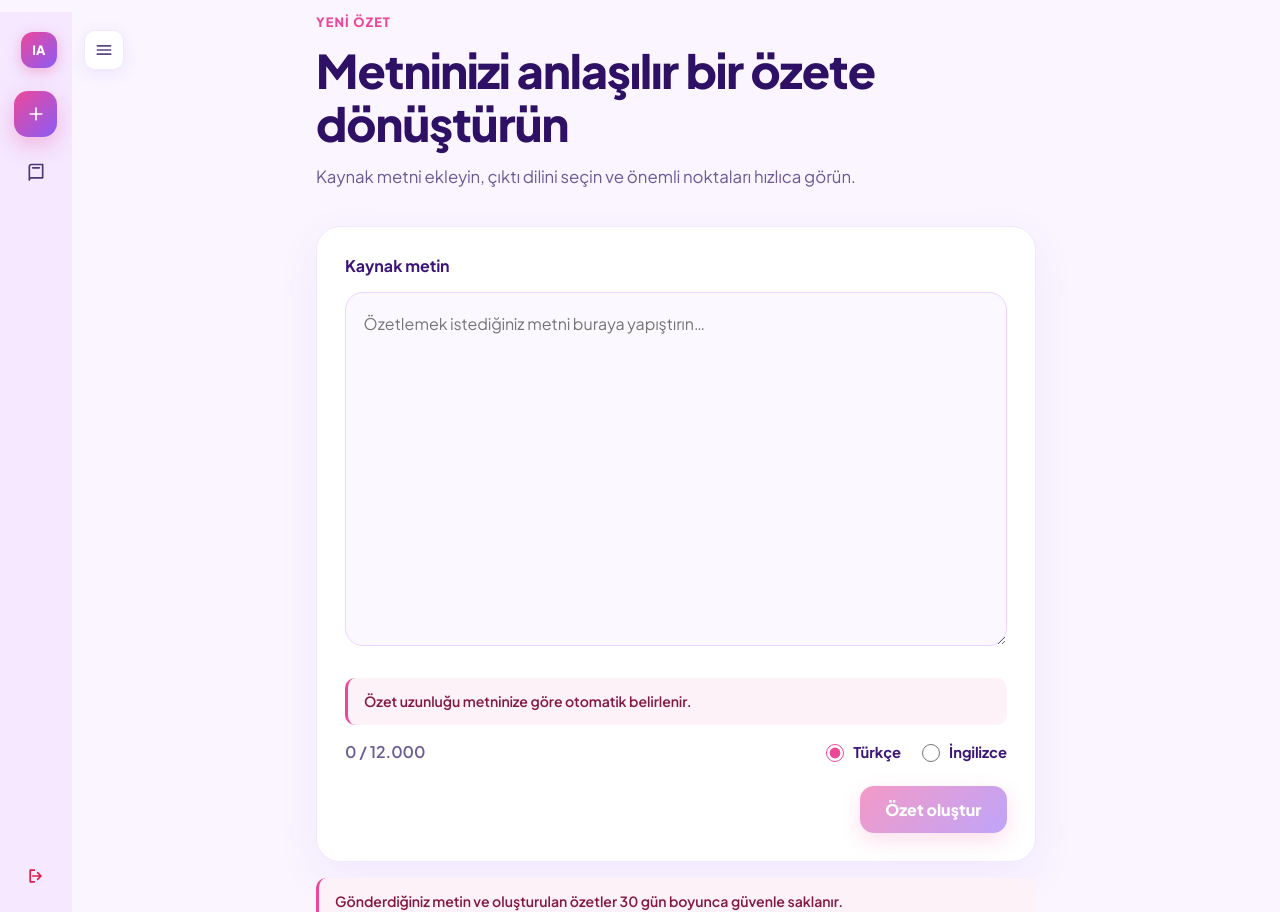
Test: product workspace › supports feedback on a new result, prevents duplicate pending requests and retains confirmed state after failure
Type "Dijital dönüşüm kaynak metni" into the text box labelled "Kaynak metin".
click(676, 469); type("Dijital dönüşüm kaynak metni")  # box [345, 292, 1007, 646]
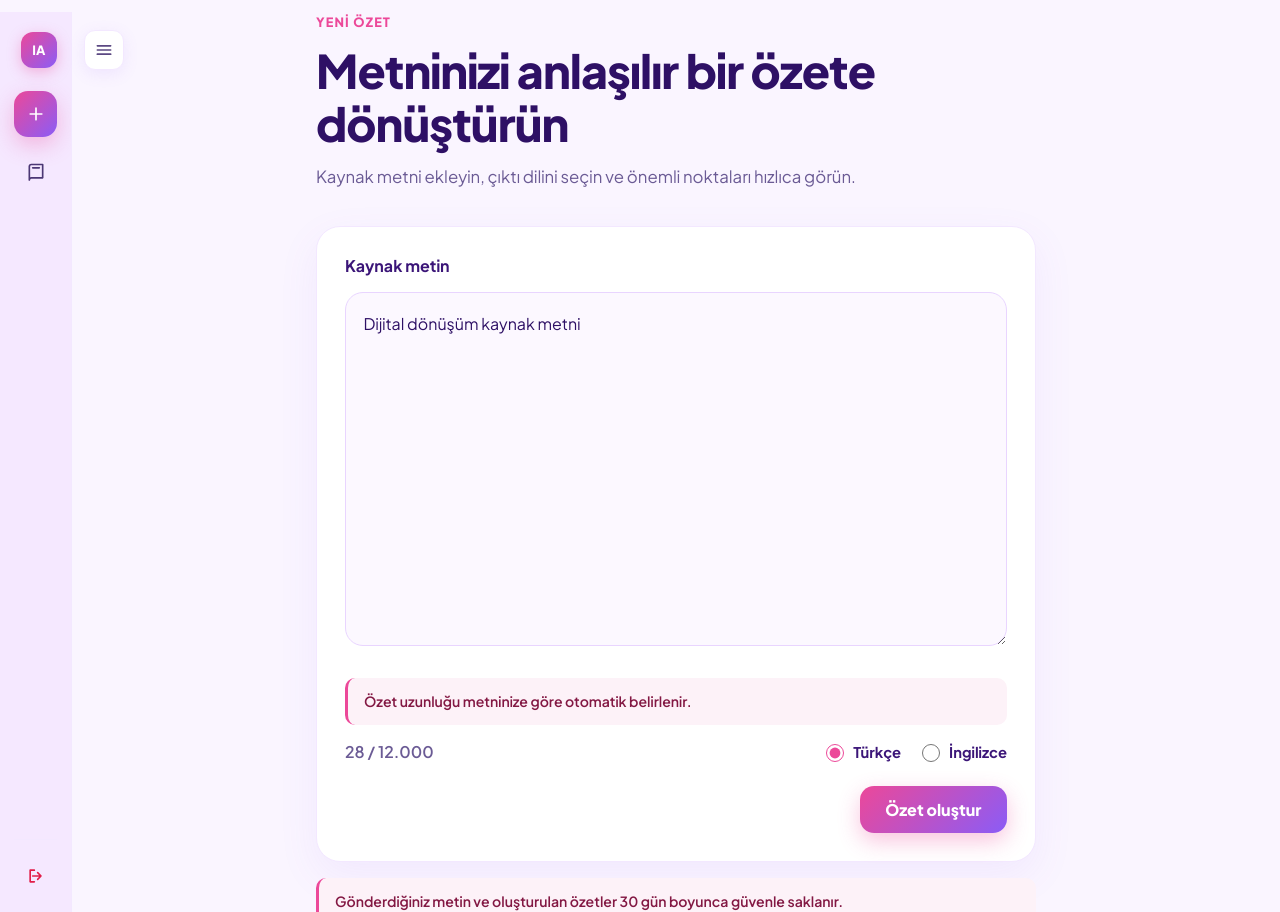
Click the button "Özet oluştur".
click(933, 809)  # box [860, 786, 1007, 833]
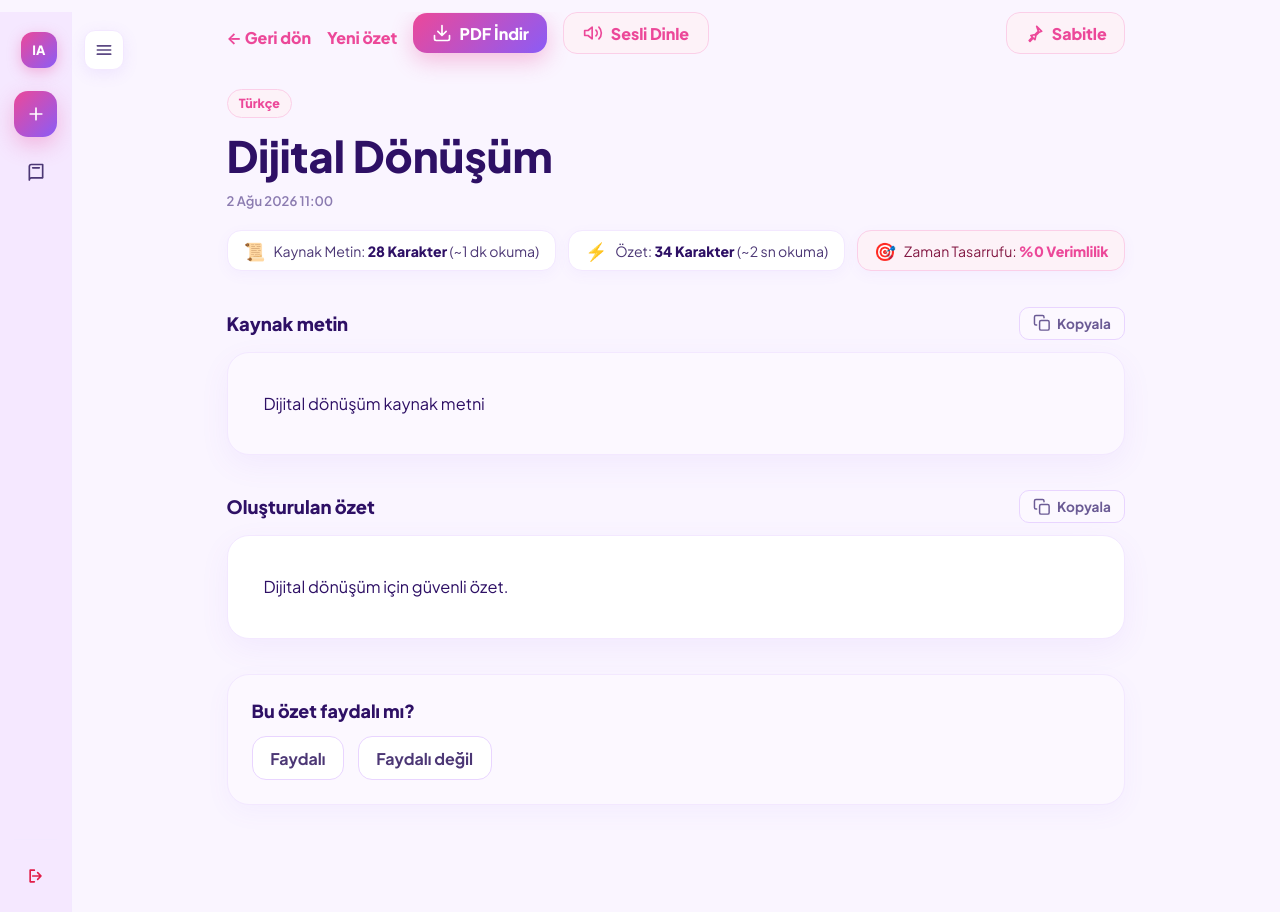
Click the button "Faydalı".
click(298, 758)  # box [252, 736, 344, 780]
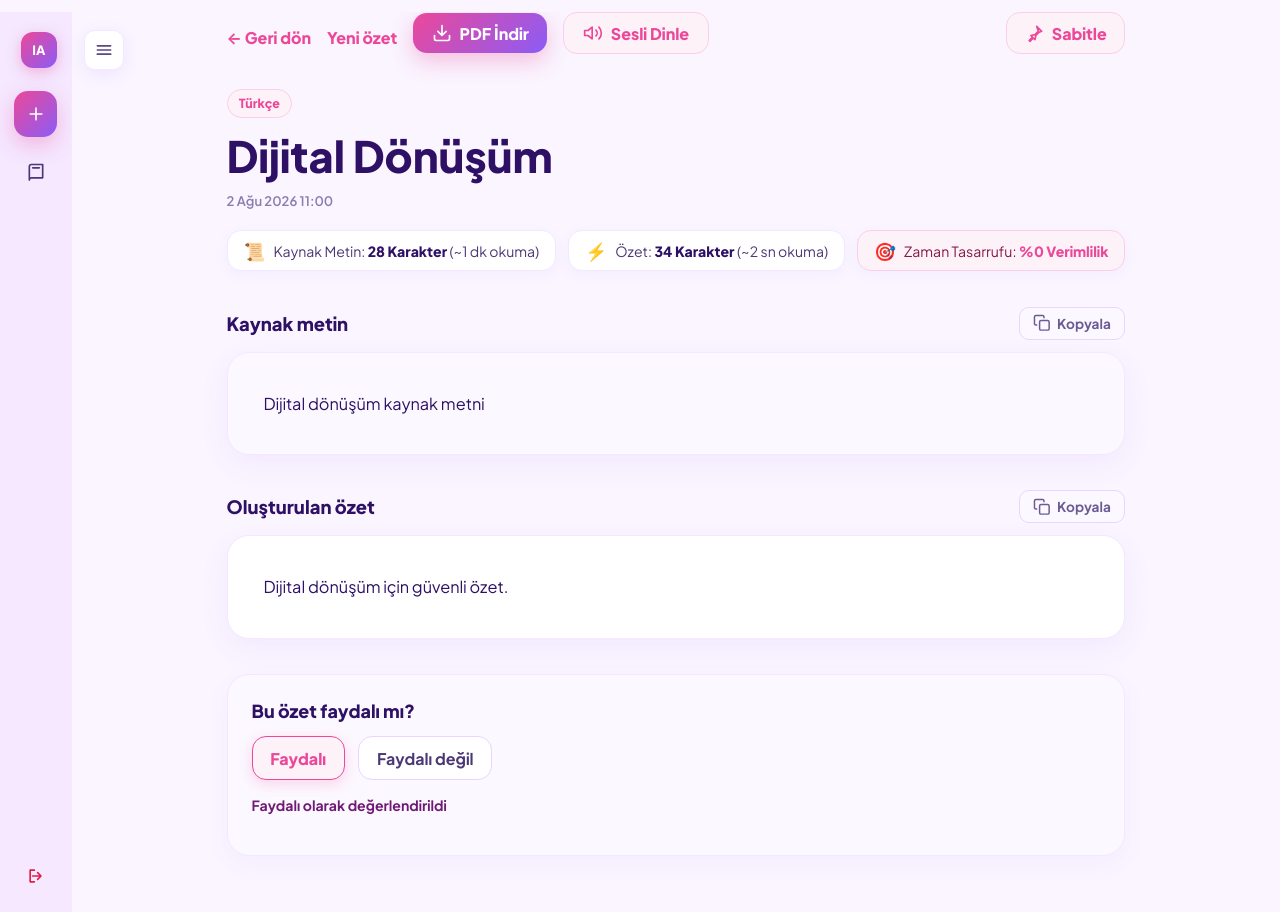
Expected: the button "Faydalı" is pressed, [252, 736, 345, 780]
Click the button "Faydalı değil".
click(425, 758)  # box [358, 736, 492, 780]
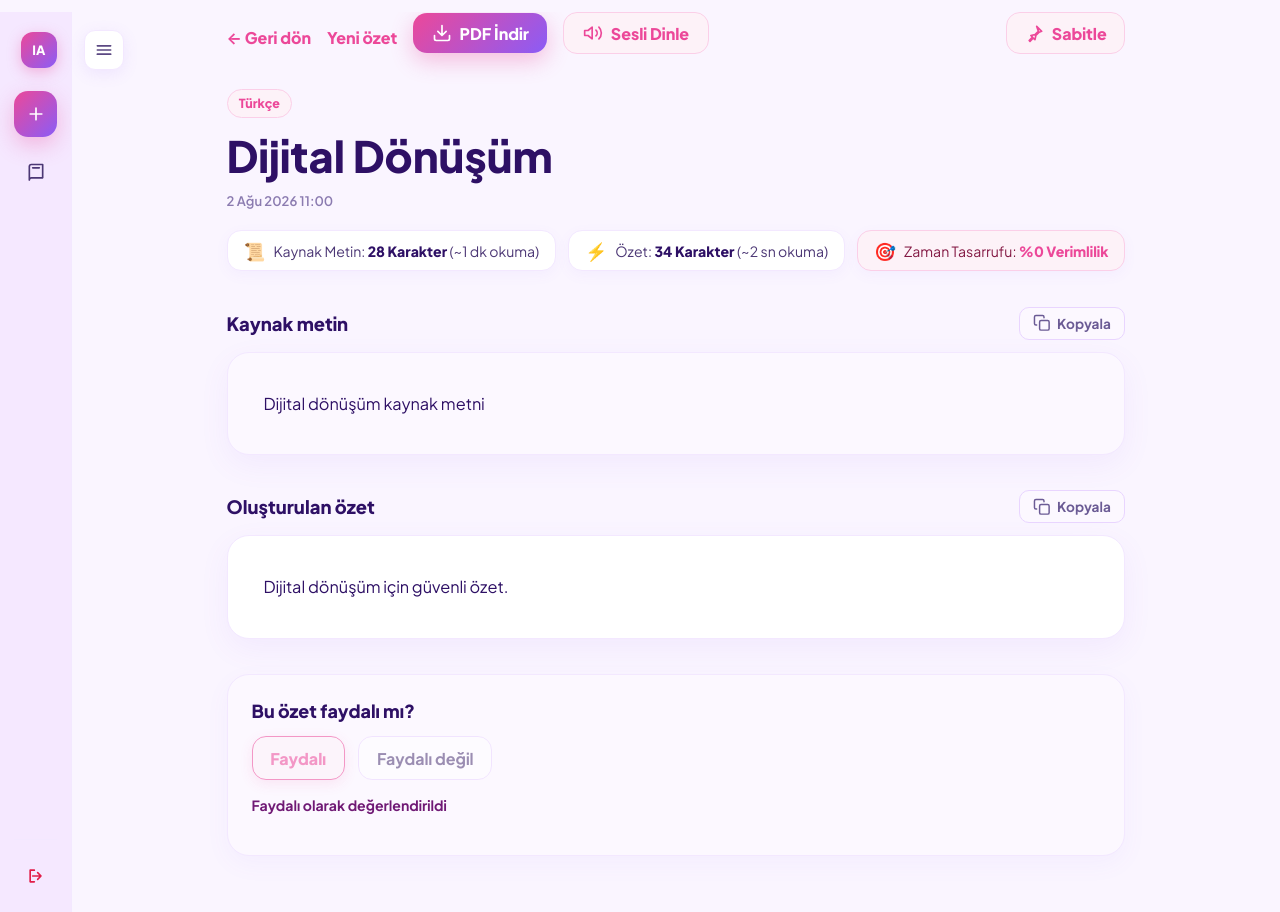
Expected: the button "Faydalı" is disabled, [252, 736, 345, 780]
Expected: the button "Faydalı değil" is disabled
Click the button "Faydalı değil".
click(425, 758)  # box [358, 736, 492, 780]
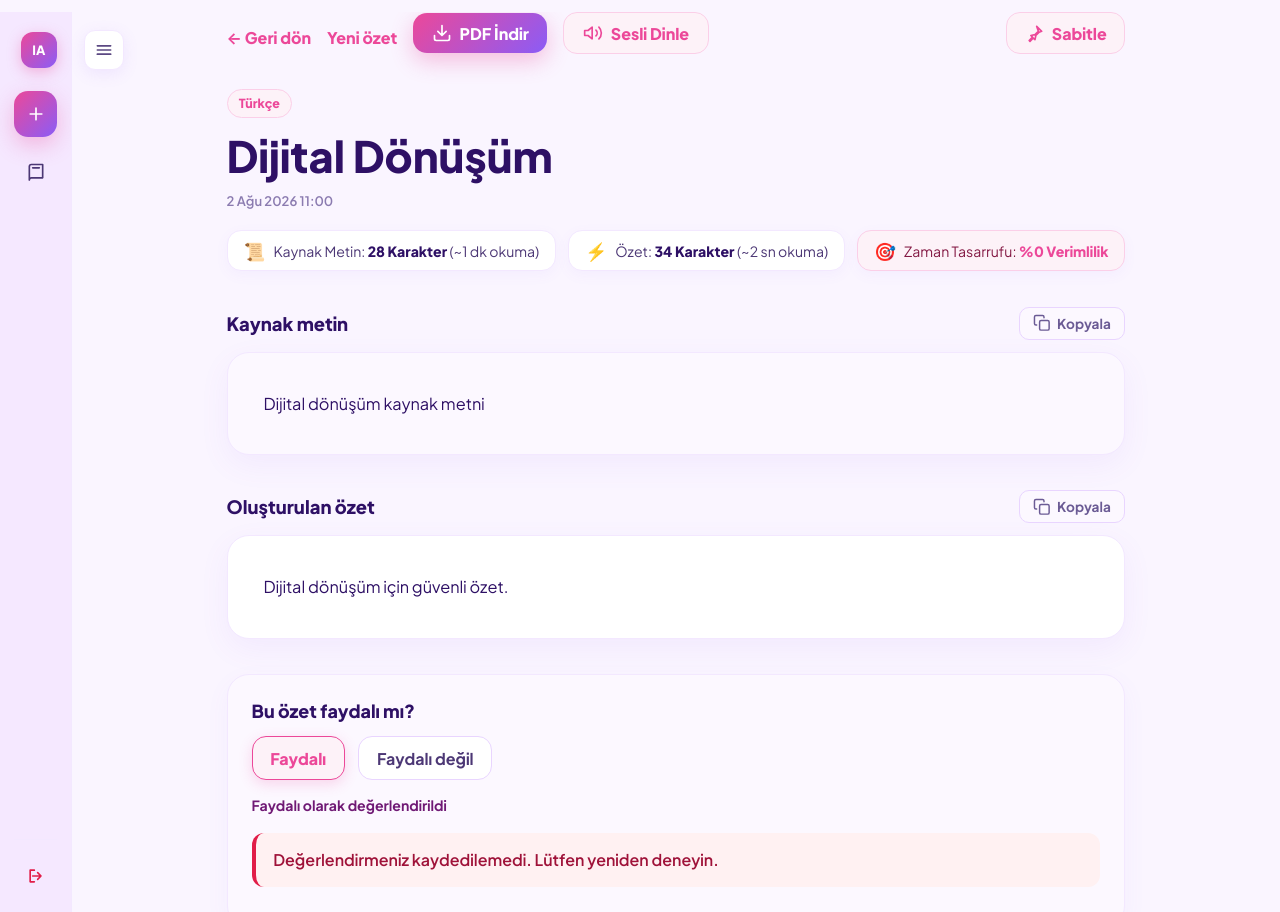
Expected: the message "Değerlendirmeniz kaydedilemedi. Lütfen yeniden deneyin." is shown, [252, 833, 1100, 887]
